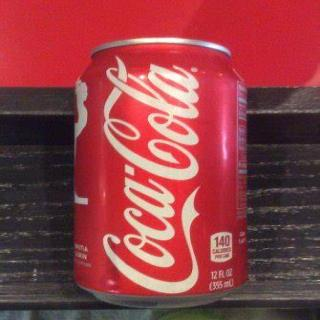Anorganik: (69, 33, 254, 311)
